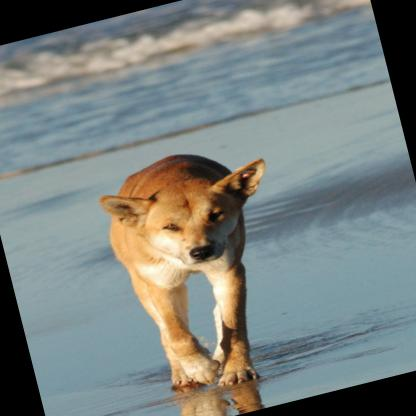dingo: (90, 132, 310, 404)
